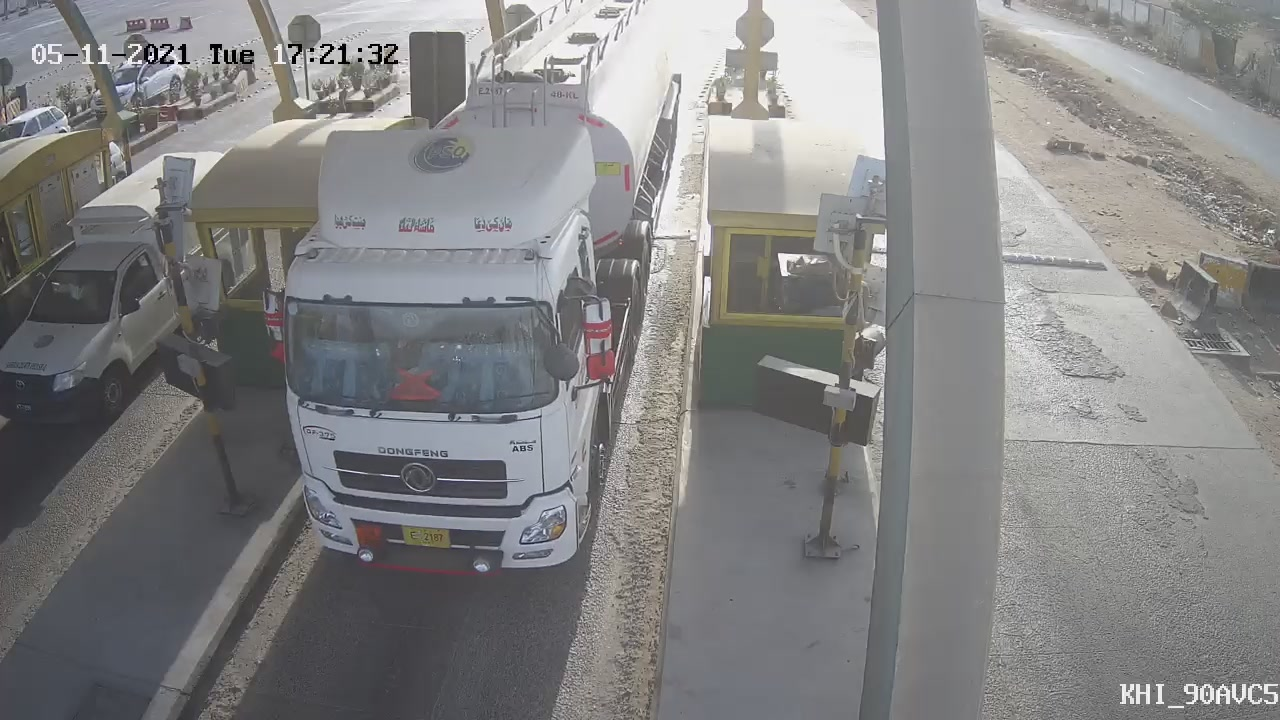F6: (248, 5, 700, 612)
